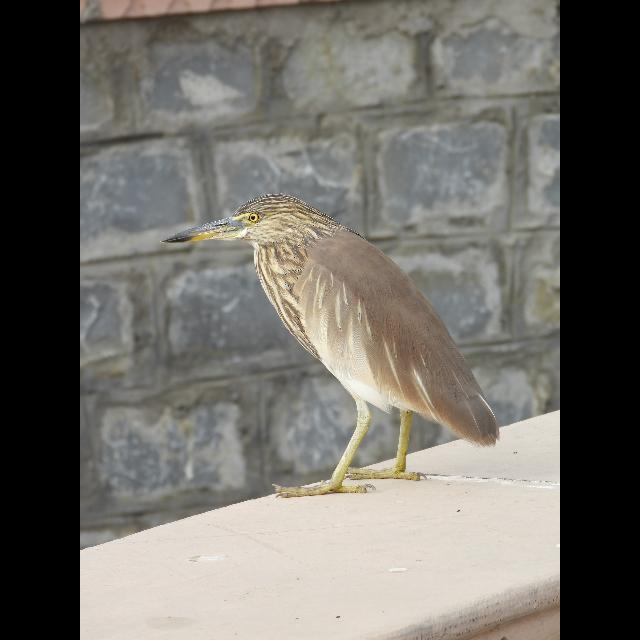heron: (165, 194, 495, 500)
